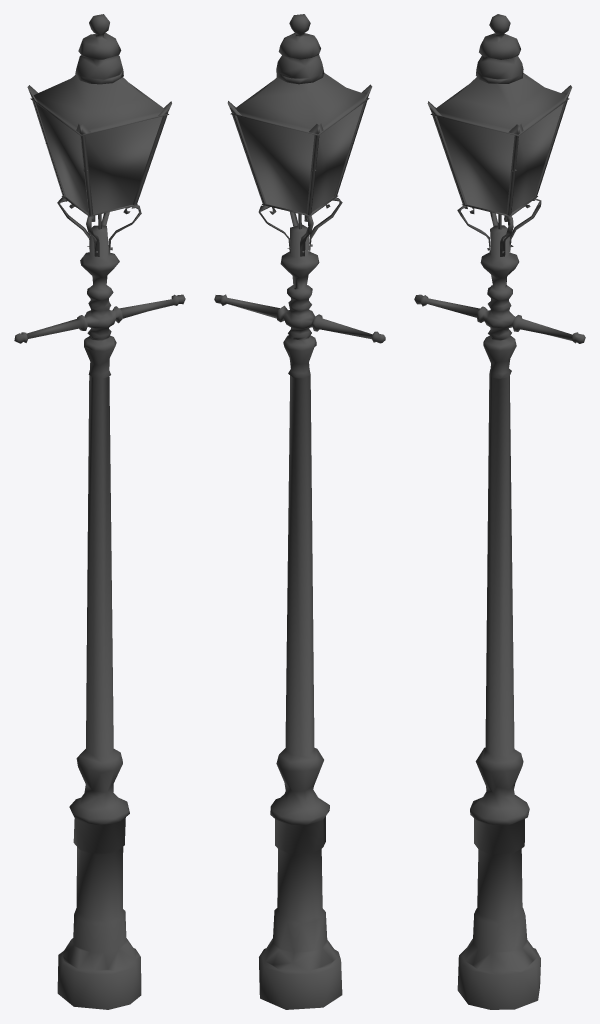
File: street_lamp_01_1k.obj
The picture shows the model from 3 angles, left to right: view 1: azimuth 30°, elevation 25°; view 2: azimuth 150°, elevation 25°; view 3: azimuth 330°, elevation 25°; orthographic projection.
Parts seen in each view (by area): view 1: street_lamp_01; view 2: street_lamp_01; view 3: street_lamp_01.
Part boxes in pixels (<box>): street_lamp_01: <box>14,14,185,1009</box>; street_lamp_01: <box>214,14,385,1009</box>; street_lamp_01: <box>414,14,585,1009</box>.
Bounding box in the file's own units: 0.7064 × 3.87 × 0.3842.
